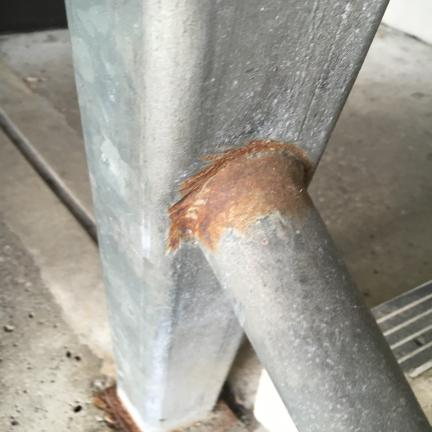karat: (163, 143, 318, 253)
